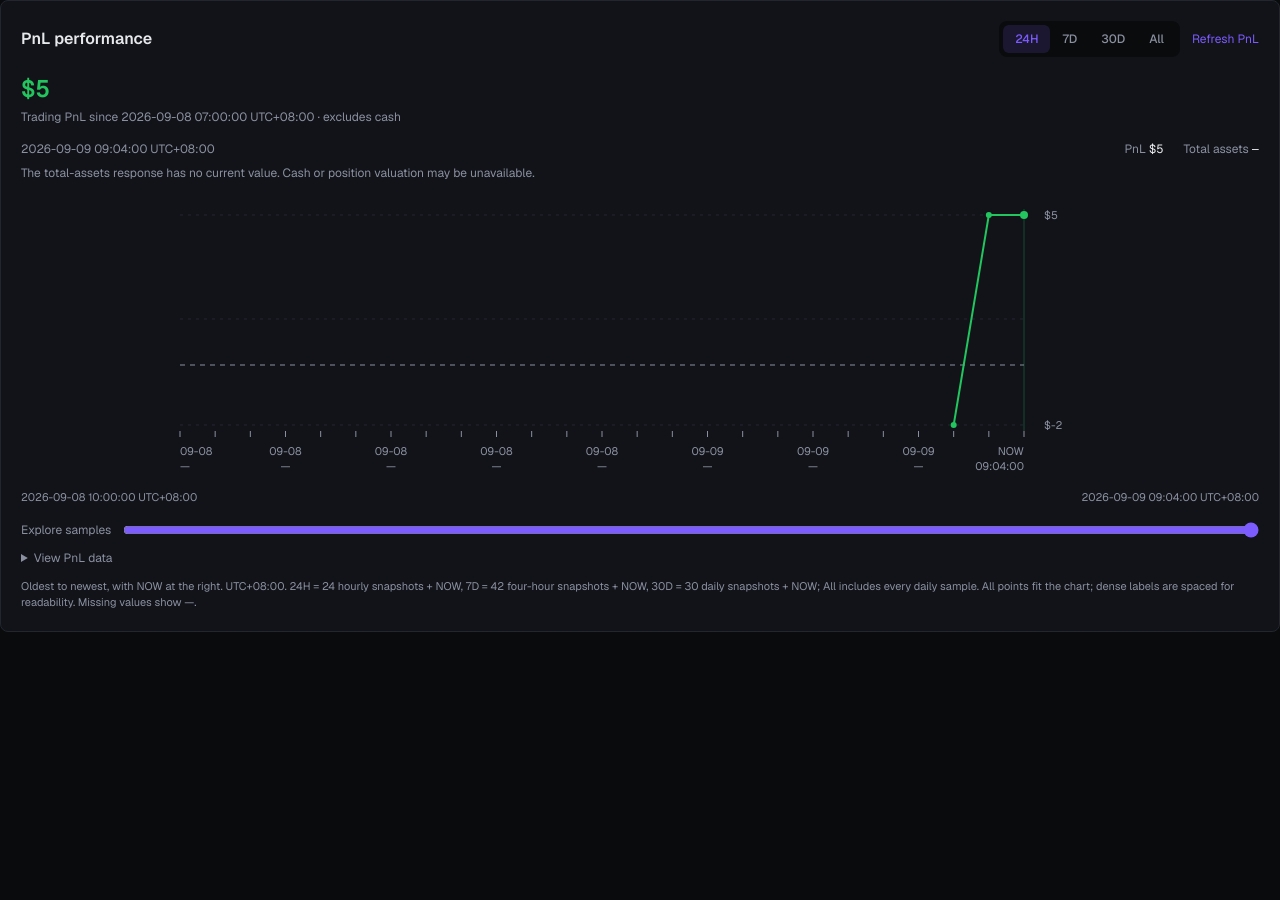
Test case: Portfolio PnL chart › explores exact sample values and resets selection on period changes
Set the slider named "PnL sample" to "22": (1158, 530) [123,522,1259,538]
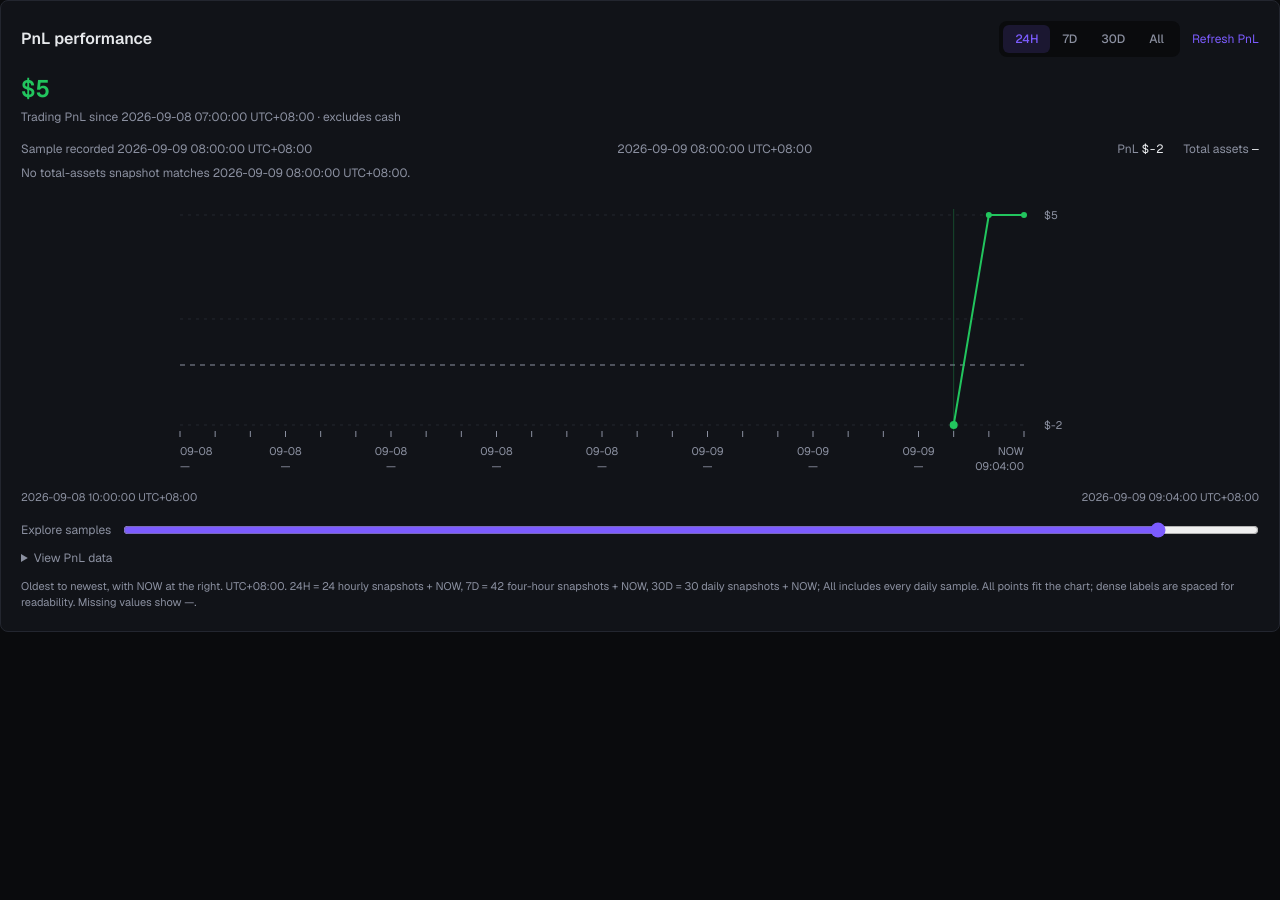
Now the text with test id "pnl-sample" reads "$-2", box [1142,141,1163,157]
Click the button "7D": (1070, 39) [1050,25,1089,53]
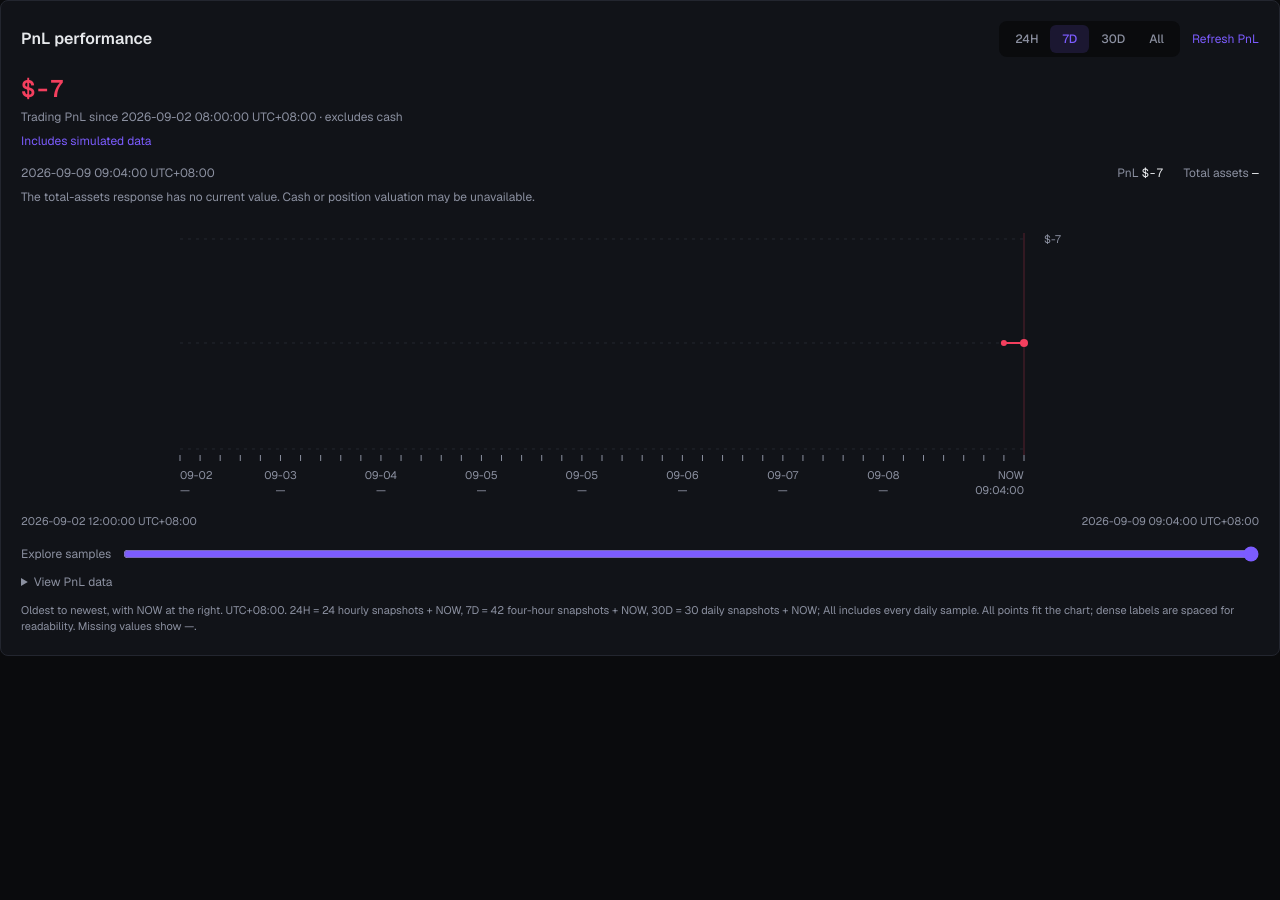
Now the text with test id "pnl-sample" reads "$-7", box [1142,165,1163,181]
